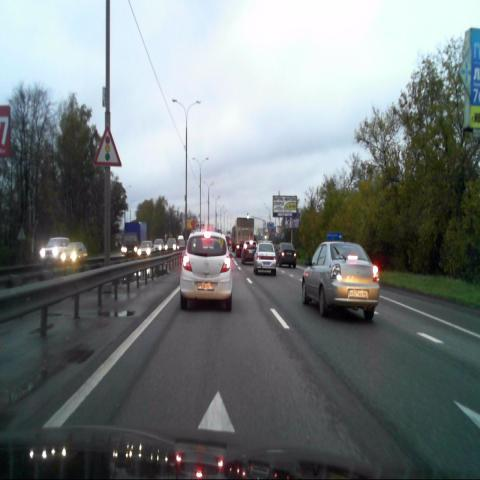1_8: (95, 126, 121, 167)
